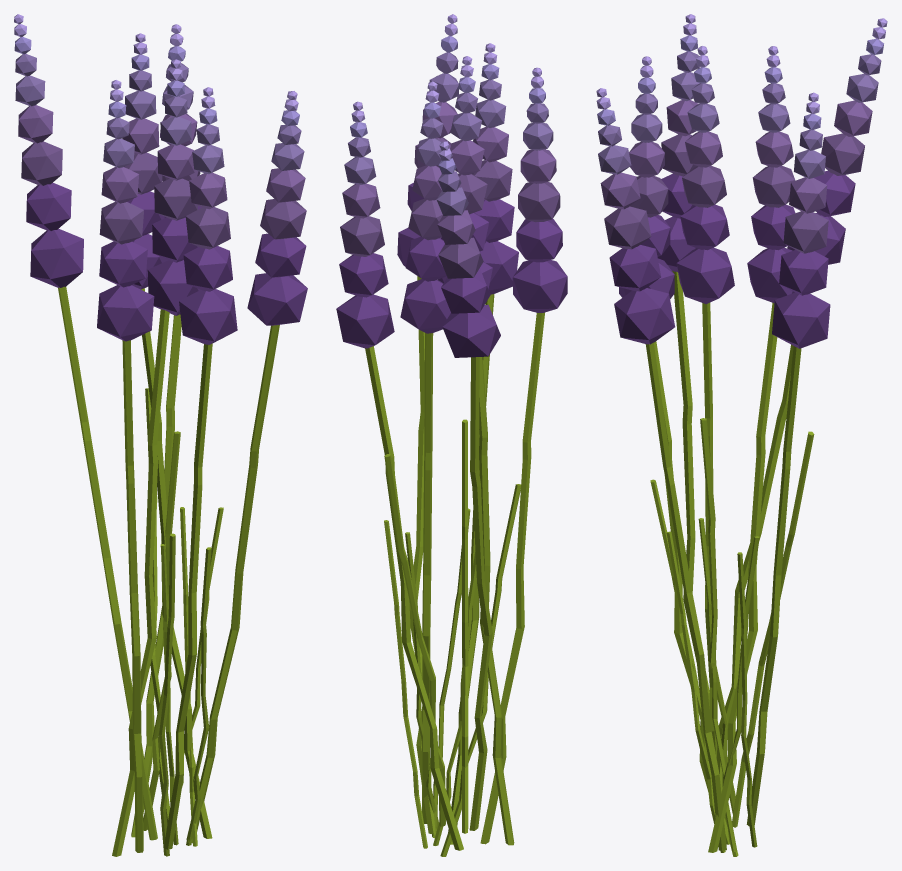
File: lavanda_feliz.fbx
3 renders of one model, left to right at view 1: azimuth 30°, elevation 25°; view 2: azimuth 150°, elevation 25°; view 3: azimuth 270°, elevation 25°, orthographic. The views are drawn at different scales.
Parts seen in each view (by area): view 1: Cylinder.002; view 2: Cylinder.002; view 3: Cylinder.002.
Boxes of the visible parts, left/top/right/bottom form: Cylinder.002: left=14, top=14, right=307, bottom=856; Cylinder.002: left=336, top=14, right=567, bottom=856; Cylinder.002: left=596, top=14, right=887, bottom=856.
Size of the model in its own units: 10.67 by 44.38 by 14.52.
